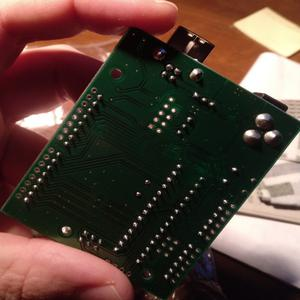duino: (13, 10, 289, 288)
